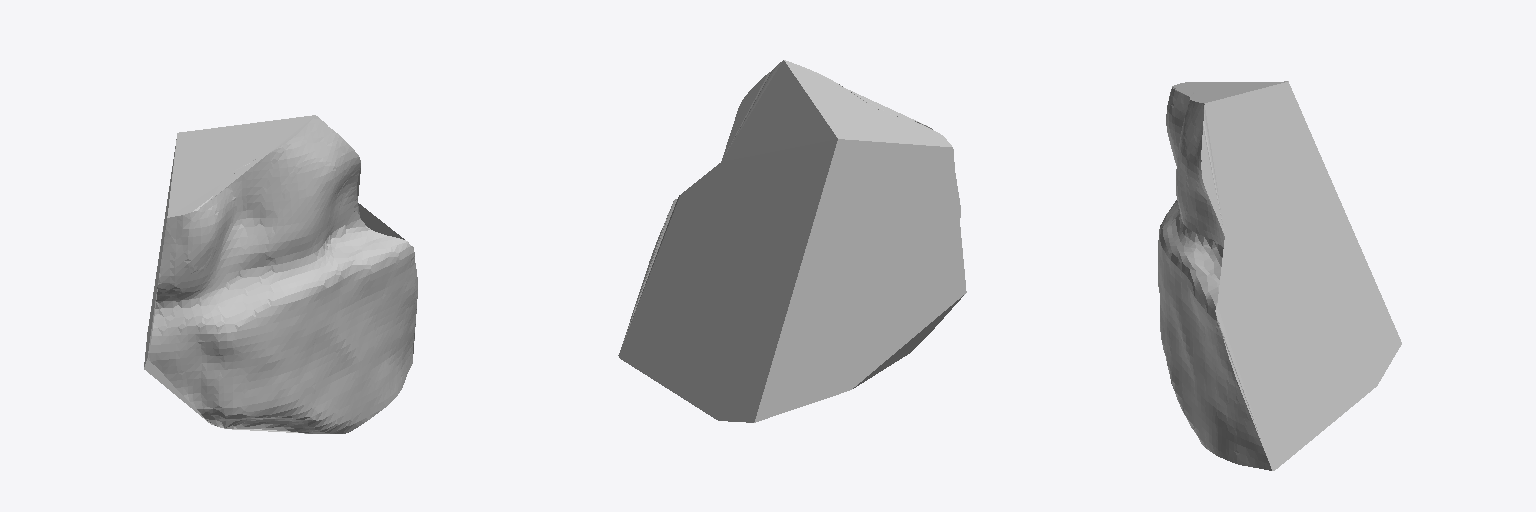
Rendered from low_cell_072.obj.
3 views of the same model, side by side, from view 1: azimuth 30°, elevation 25°; view 2: azimuth 150°, elevation 25°; view 3: azimuth 270°, elevation 25° (orthographic).
Parts seen in each view (by area): view 1: low_cell.072_low_cell.071; view 2: low_cell.072_low_cell.071; view 3: low_cell.072_low_cell.071.
Boxes of the visible parts, <box> form: low_cell.072_low_cell.071: <box>144,115,417,433</box>; low_cell.072_low_cell.071: <box>618,60,966,422</box>; low_cell.072_low_cell.071: <box>1158,81,1401,470</box>.
Bounding box in the file's own units: 0.8297 × 0.8424 × 0.5722.